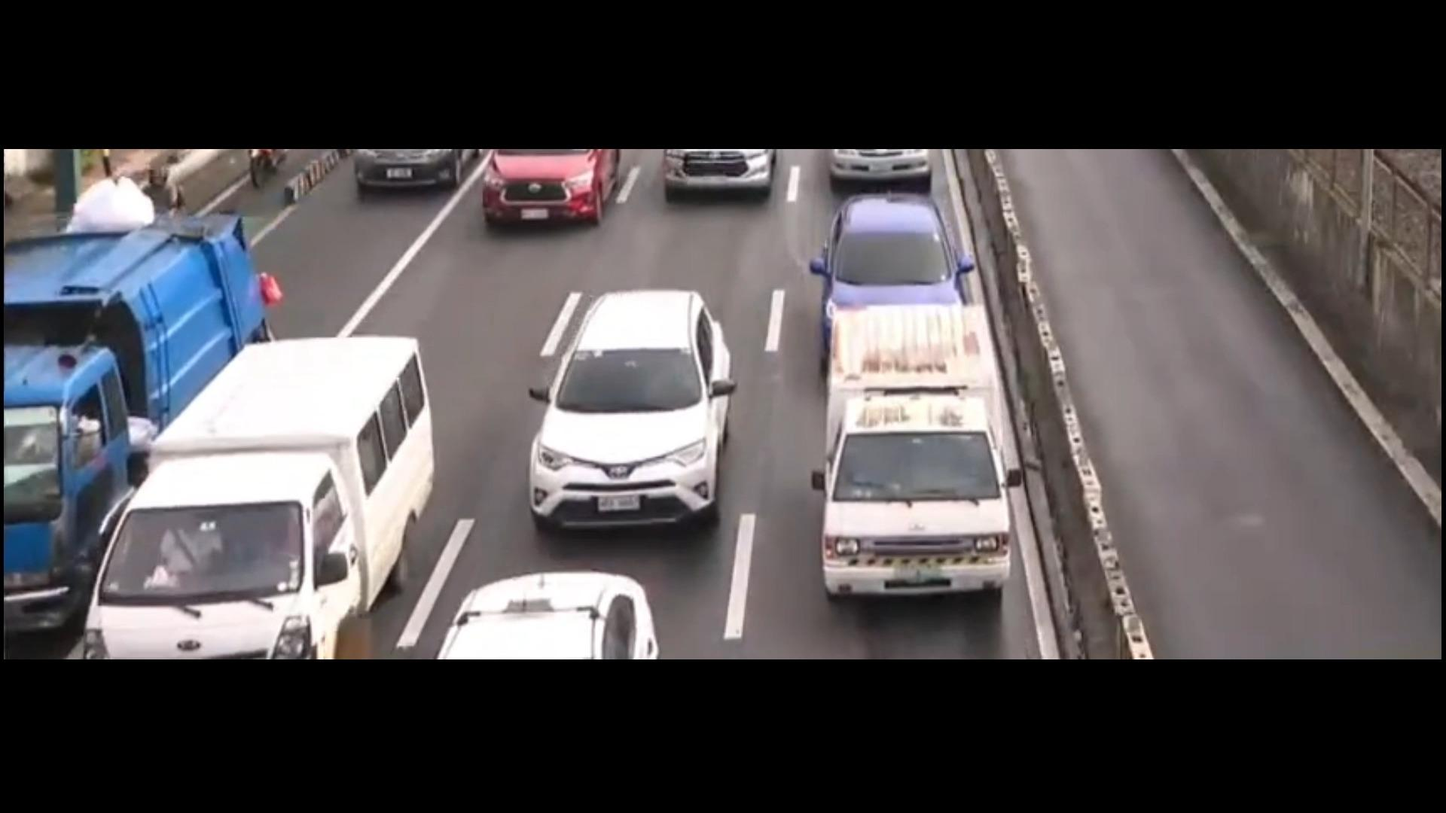Multicab: (83, 339, 432, 660), (812, 303, 1017, 598)
SUV: (535, 289, 732, 533)
Sedan: (809, 188, 978, 359)
Truck: (0, 208, 271, 633)
